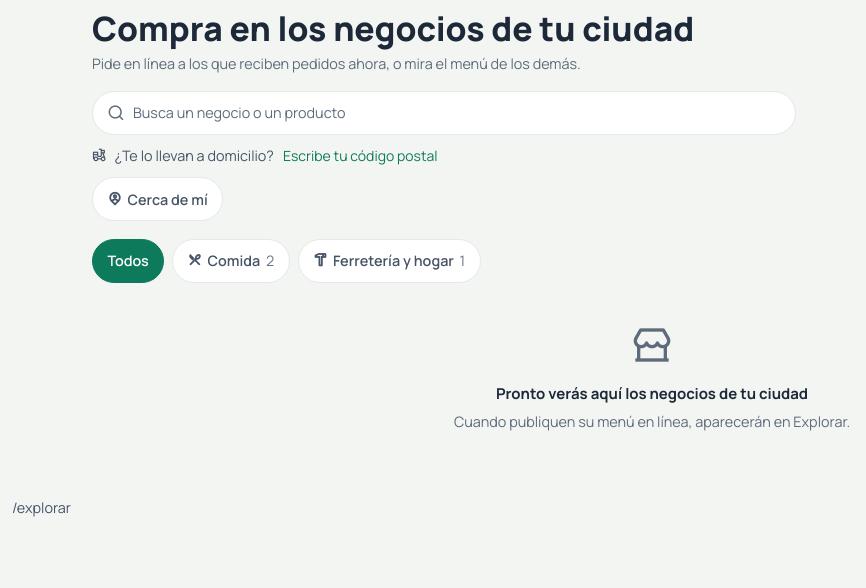
ExplorePage › searches as the customer types and keeps the search in the address
The image size is (866, 588).
Type "tacos" into the search field named "Buscar negocios y productos" at coordinates (444, 113), box left=92, top=91, right=796, bottom=135
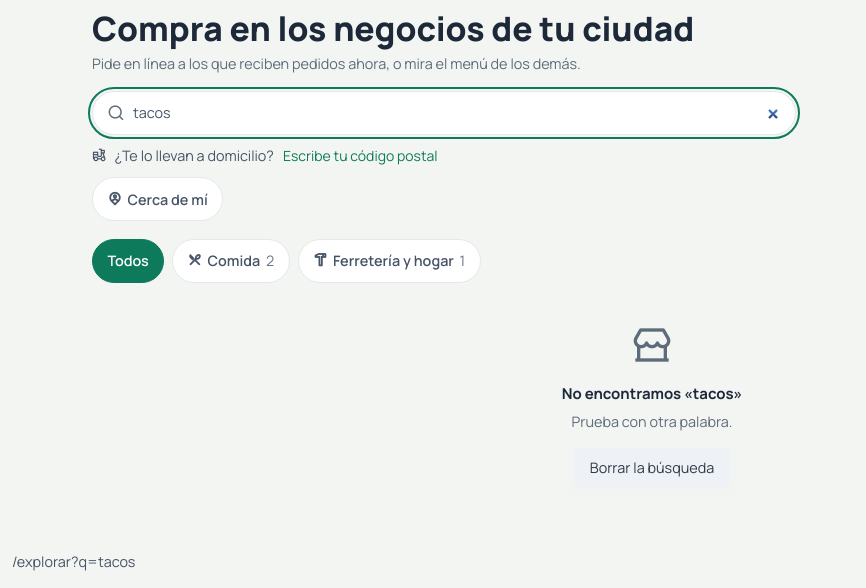
Check: the heading "No encontramos «tacos»" is shown, box left=562, top=383, right=742, bottom=403
Check: the text with test id "address" reads "/explorar?q=tacos", box left=12, top=552, right=135, bottom=571
Click the button "Borrar la búsqueda" at coordinates (652, 468), box left=574, top=449, right=730, bottom=487
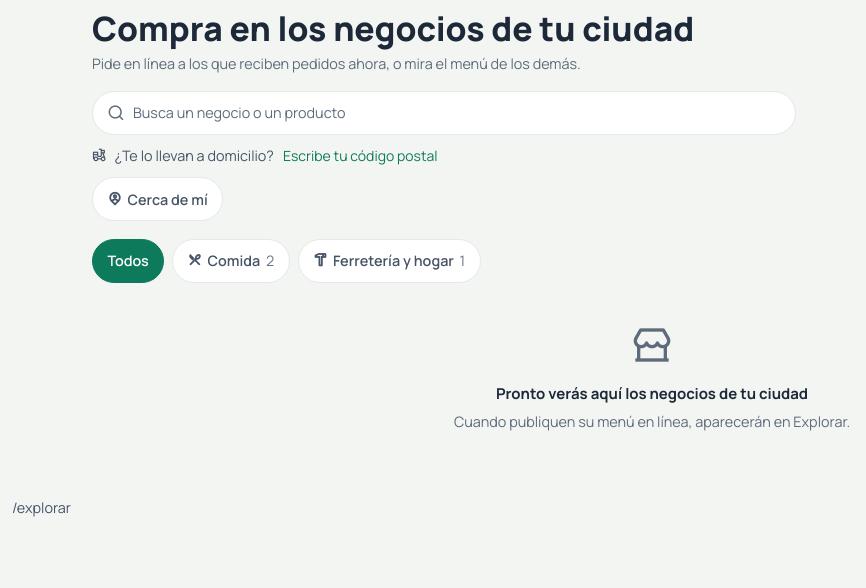
Check: the search field named "Buscar negocios y productos" is empty, box left=92, top=91, right=796, bottom=135
Check: the text with test id "address" reads "/explorar", box left=12, top=498, right=71, bottom=517
